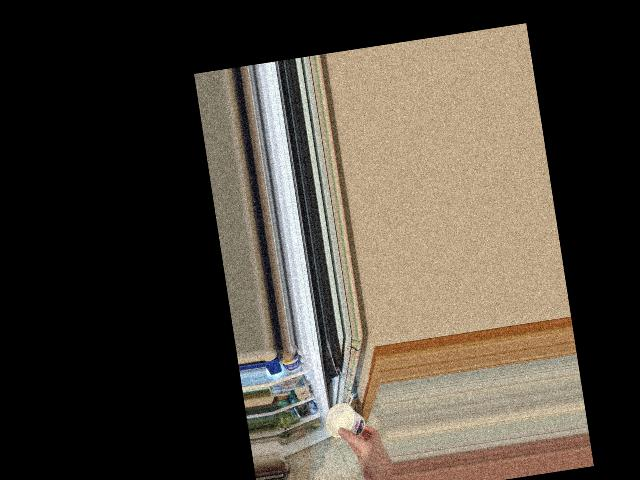cotage: (327, 400, 369, 442)
